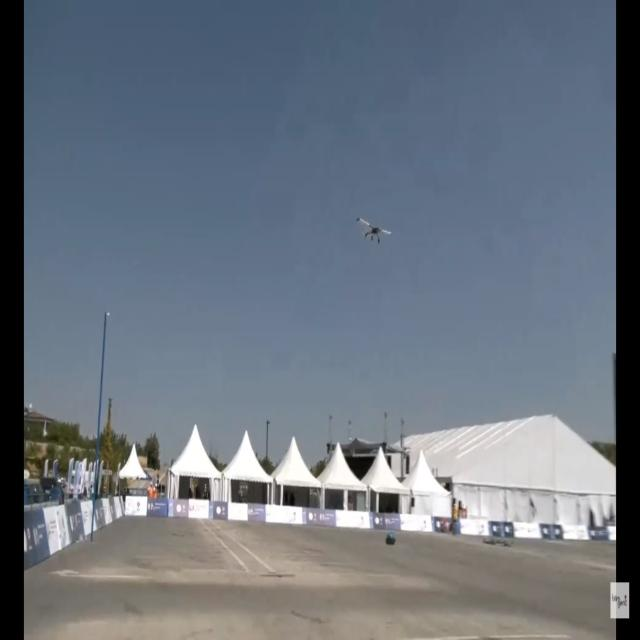iha: (356, 216, 392, 245)
